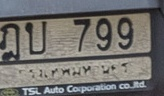txt11: (1, 22, 20, 61)
txt21: (23, 20, 47, 55)
